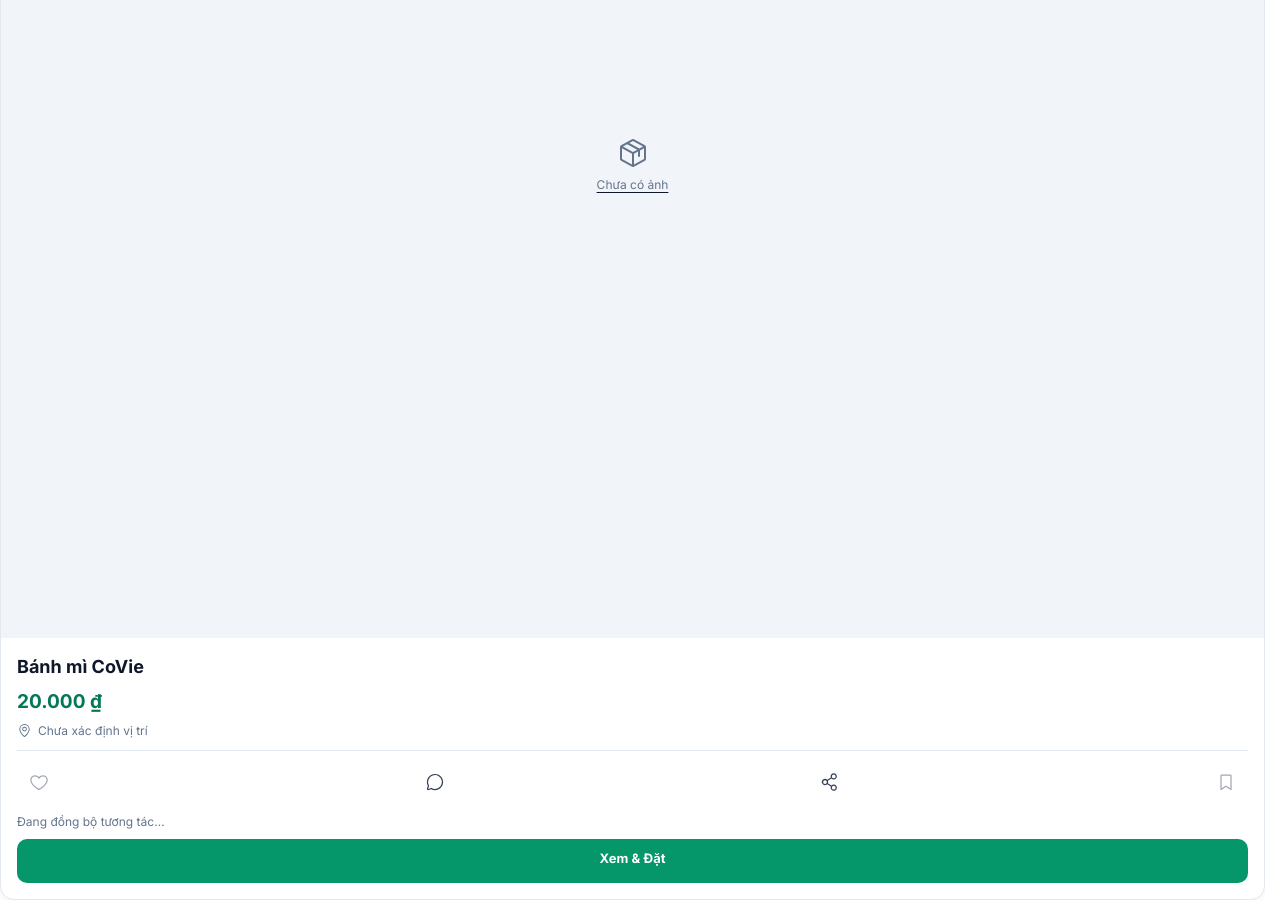
Phase 2 social card › lazily loads comments immediately after opening
This screenshot has width=1280, height=900.
(page scrolled)
What coordinates should you click on to do the following:
click the button named "Bình luận Bánh mì CoVie"
I would click on:
 (435, 782)
Its box is [413, 760, 457, 804].
(page scrolled)
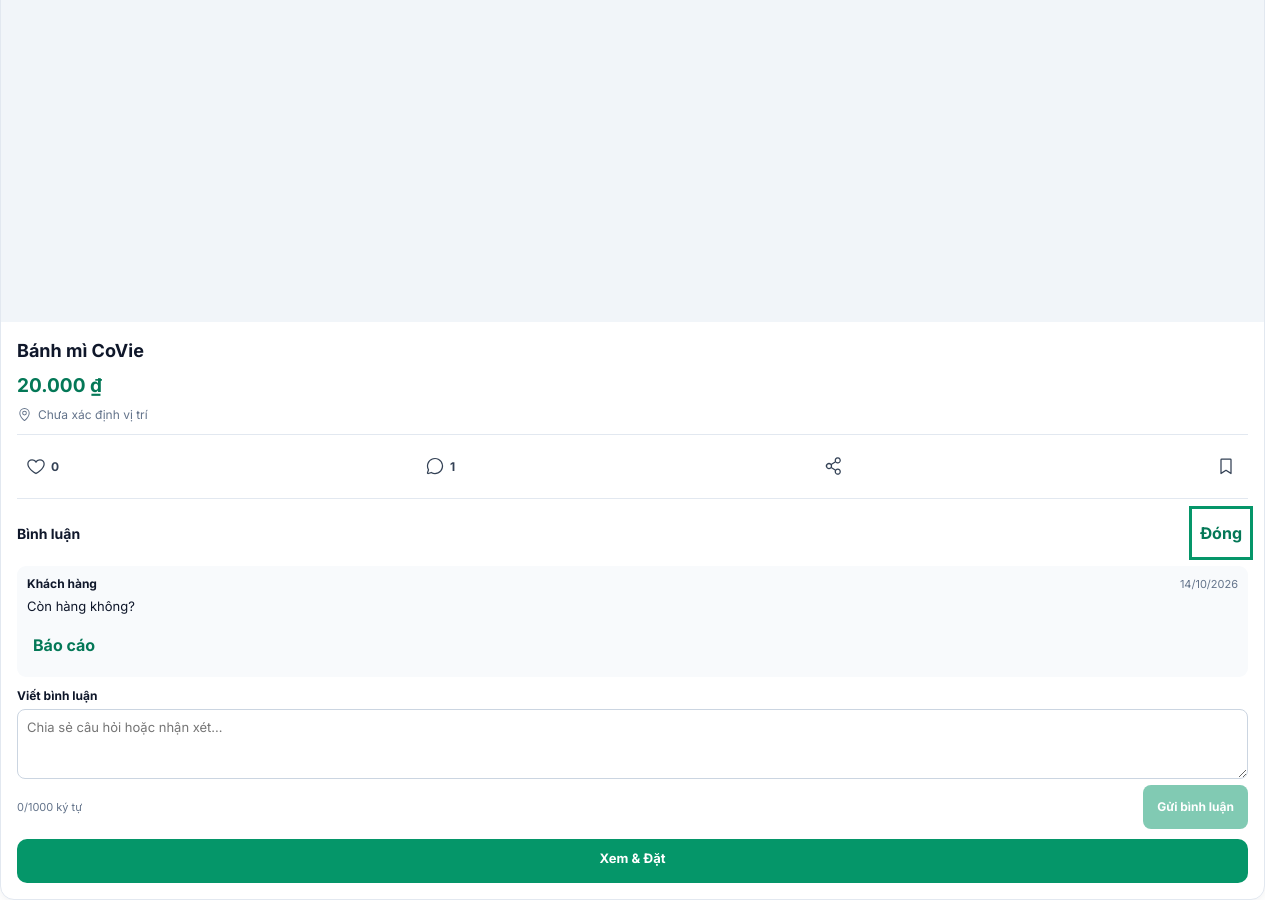
Now the text "Còn hàng không?" is shown, box [27, 598, 135, 614]
